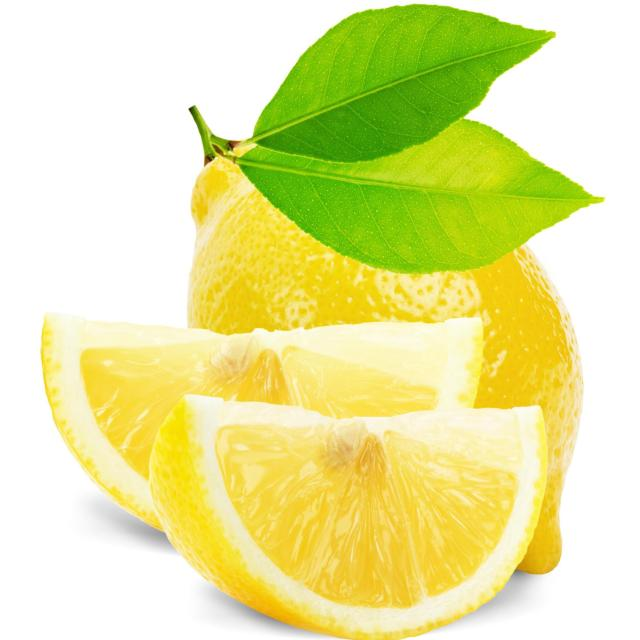lemon: (27, 297, 554, 640)
